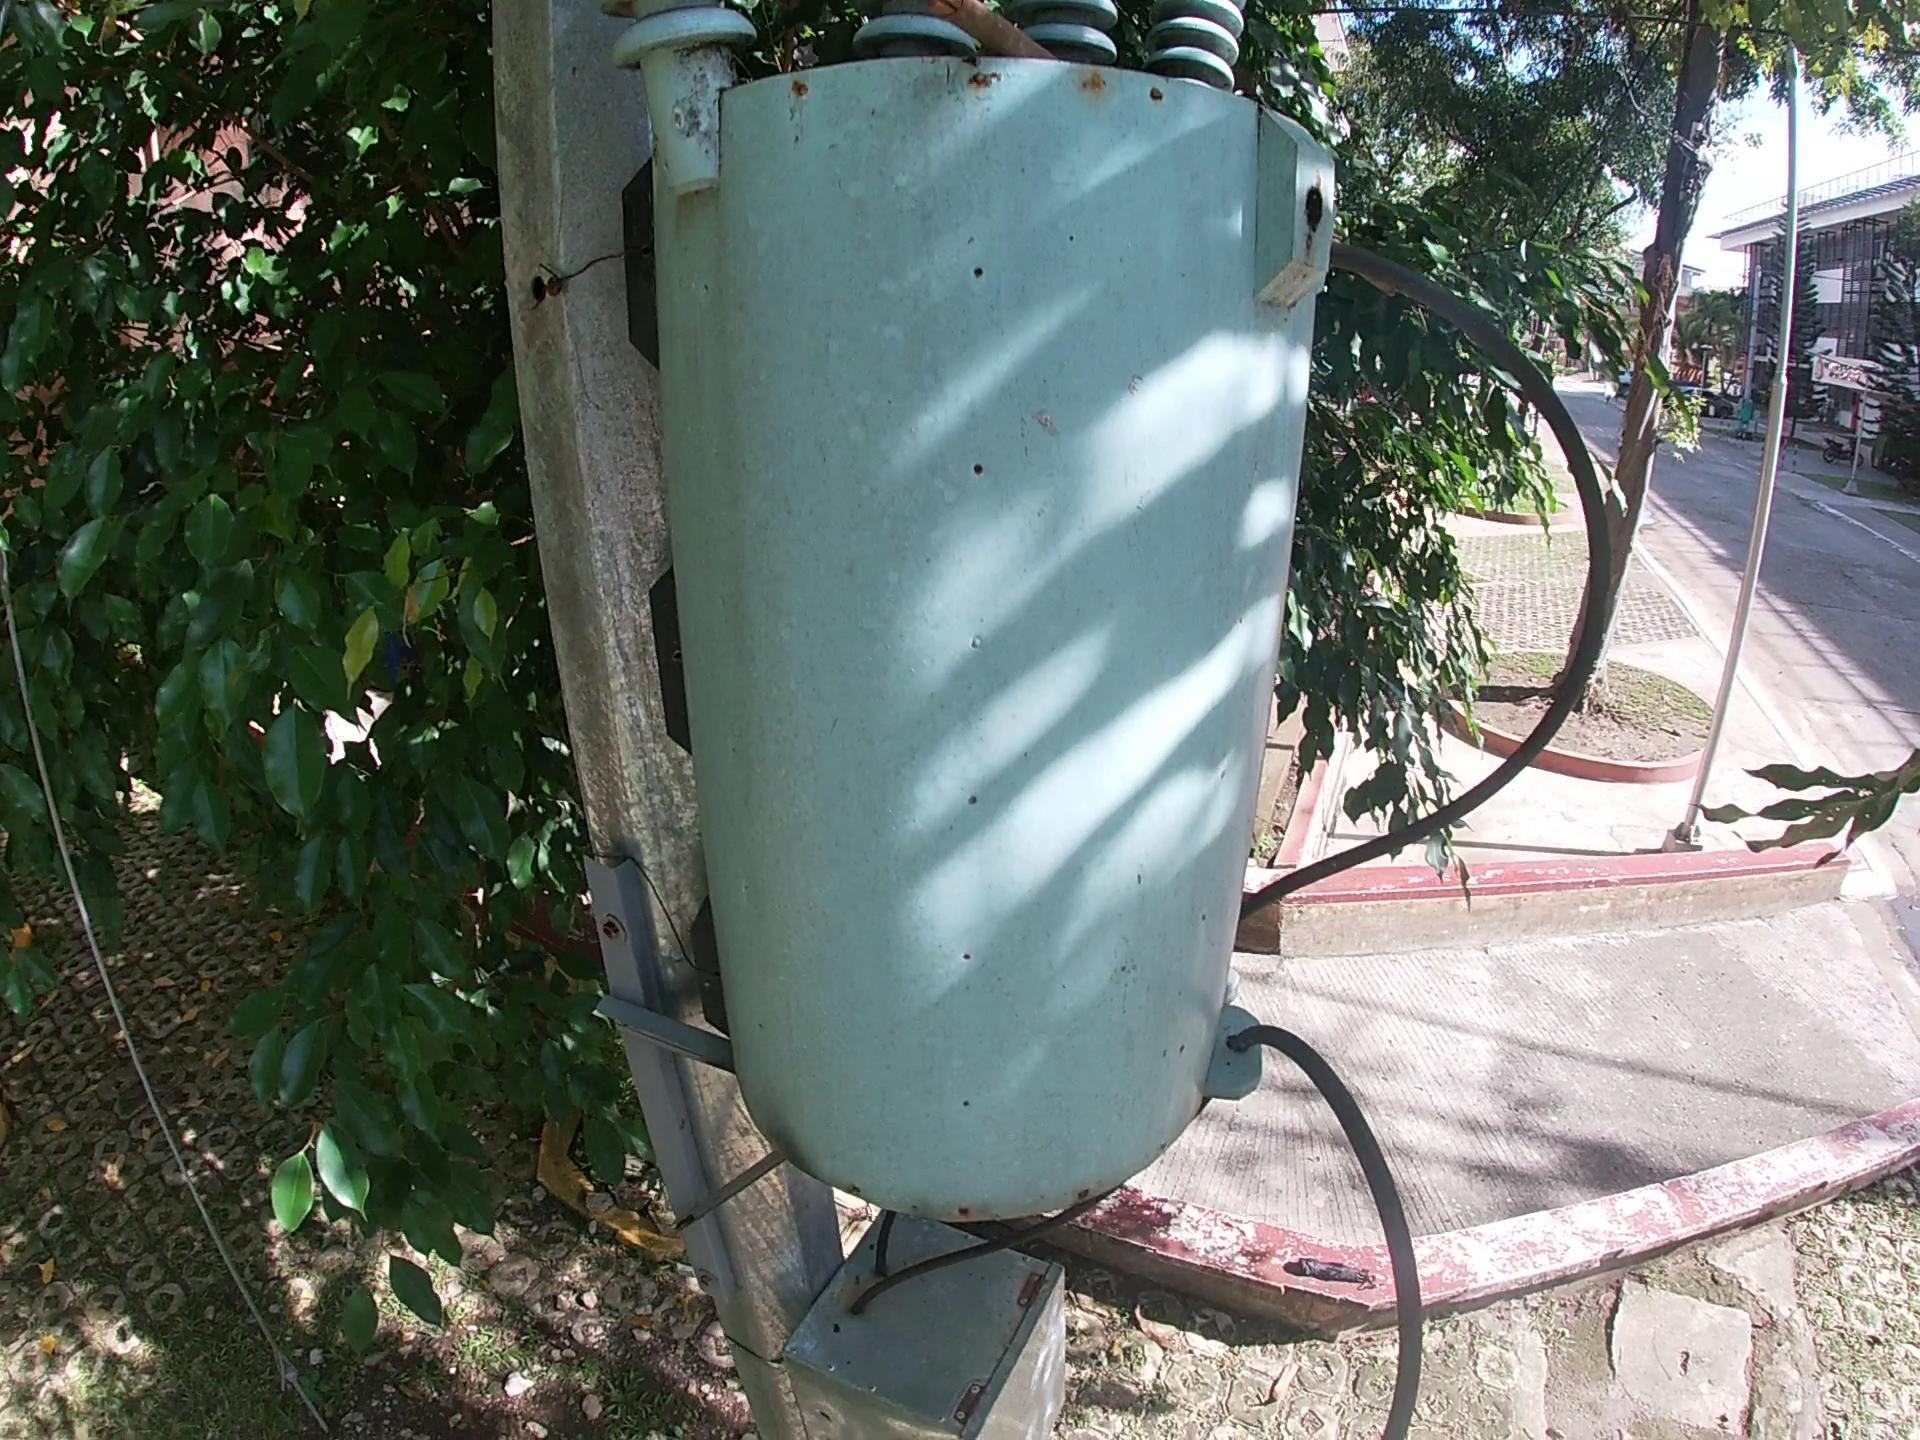tree branch: (936, 2, 1043, 51)
